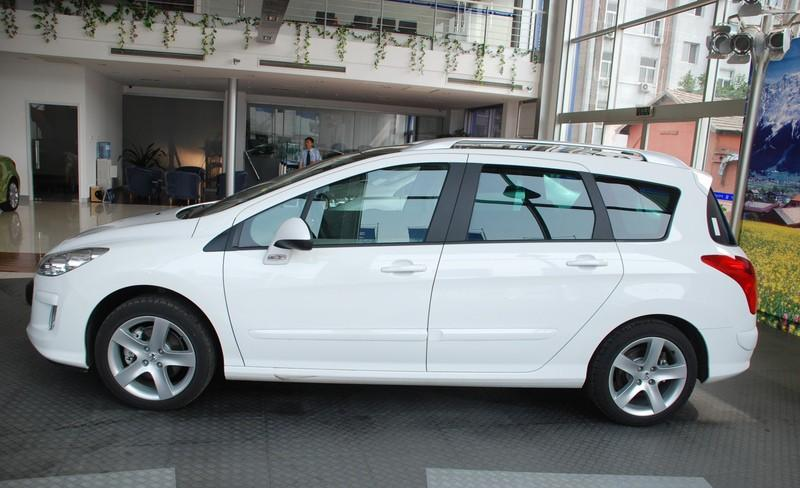Wagon: (26, 134, 759, 429)
